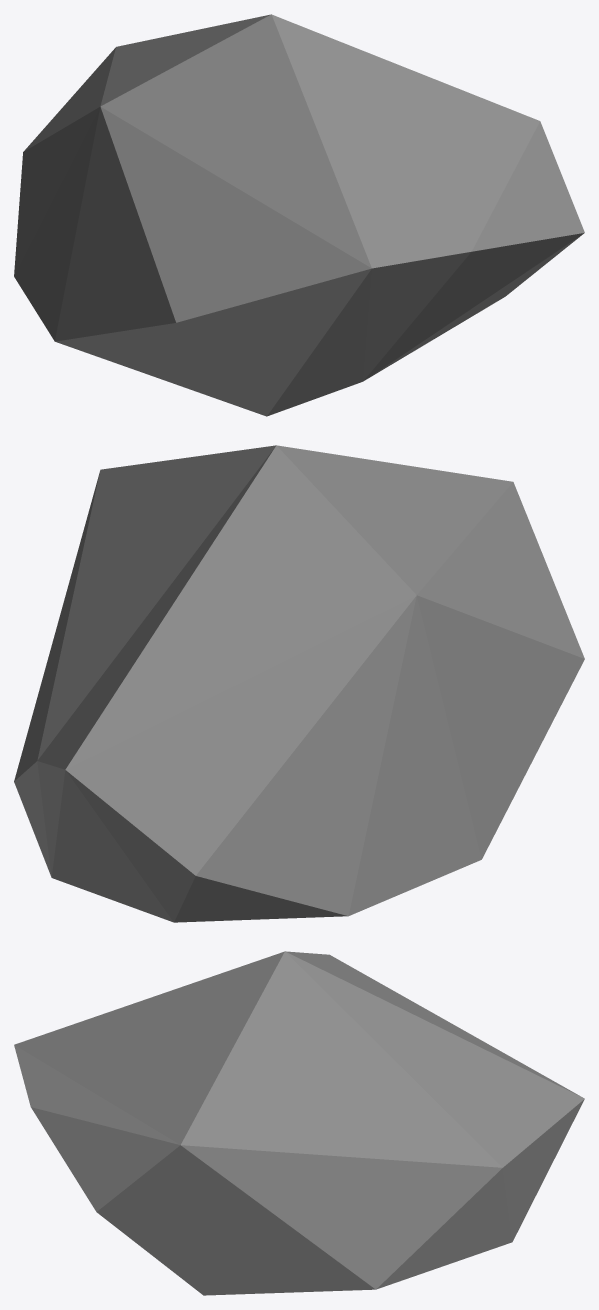
The model's file is Stone_2.fbx.
The picture shows the model from 3 angles, top to bottom: view 1: azimuth 30°, elevation 25°; view 2: azimuth 150°, elevation 25°; view 3: azimuth 270°, elevation 25°; orthographic projection. The views are drawn at different scales.
Visible parts, largest first — view 1: Stone_2; view 2: Stone_2; view 3: Stone_2.
Part boxes in pixels (x1,y1,x2,y2): Stone_2: (14, 14, 584, 416); Stone_2: (14, 445, 584, 922); Stone_2: (14, 951, 584, 1295).
Bounding box in the file's own units: 27.27 × 18.87 × 37.23.
